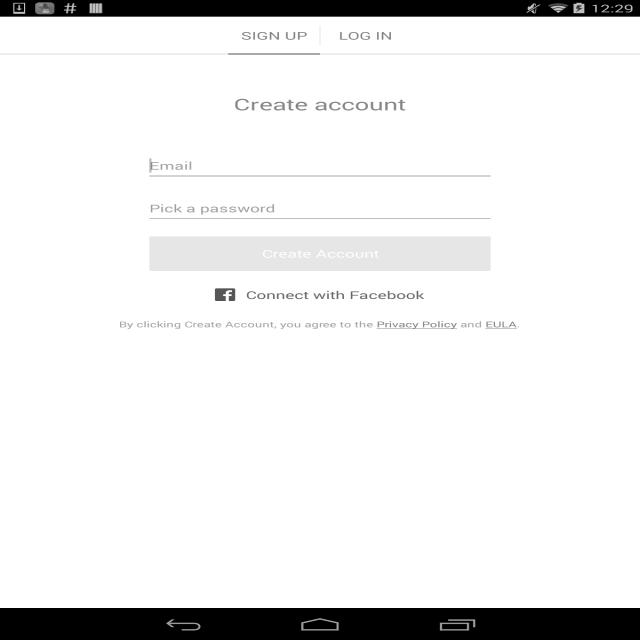EditText: (149, 155, 491, 176), (149, 198, 491, 219)
ImageView: (215, 288, 235, 301)
TextView: (149, 236, 491, 271), (119, 318, 520, 329), (233, 93, 406, 115), (149, 179, 491, 189), (149, 222, 491, 231), (246, 288, 424, 302), (241, 28, 307, 43), (338, 28, 392, 43)
